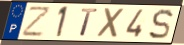1: (55, 5, 71, 40)
4: (124, 8, 145, 40)
S: (147, 8, 174, 41)
T: (79, 7, 100, 38)
X: (95, 7, 127, 39)
Z: (21, 5, 53, 38)
